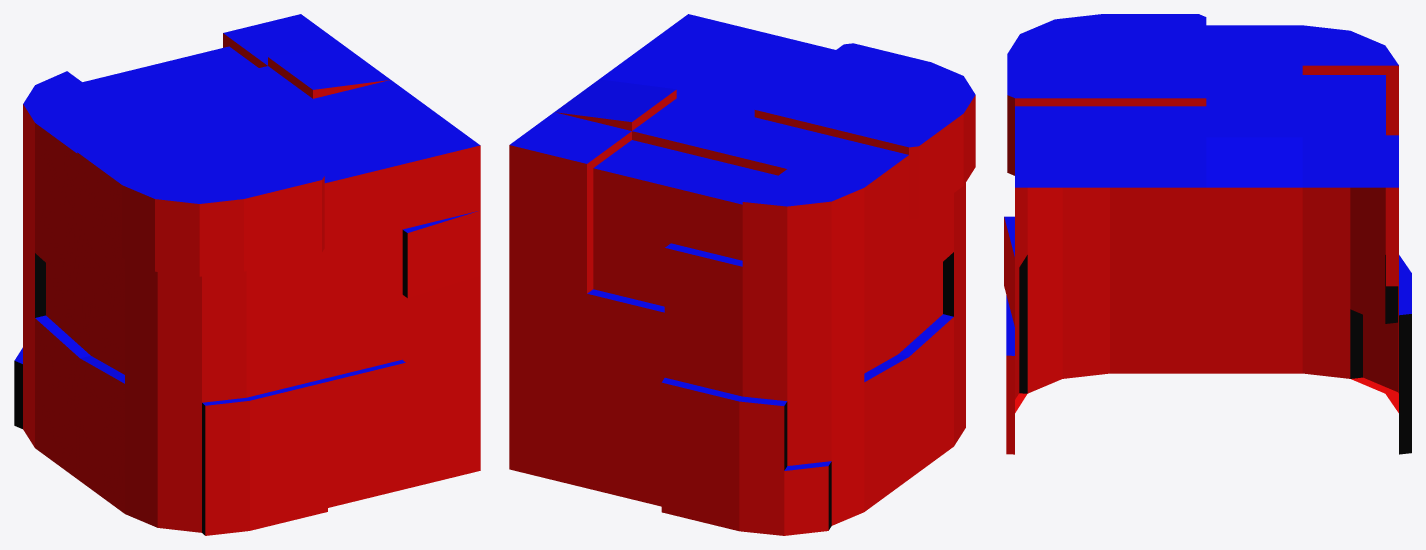
File: Block_ConnectOneSide_Rough_v1.fbx
3 renders of one model, left to right at view 1: azimuth 30°, elevation 25°; view 2: azimuth 150°, elevation 25°; view 3: azimuth 270°, elevation 25°, orthographic. The views are drawn at different scales.
Parts seen in each view (by area): view 1: Cube.021; view 2: Cube.021; view 3: Cube.021.
Boxes of the visible parts, x1,y1,x2,y2 form: Cube.021: (14, 14, 480, 535); Cube.021: (509, 14, 975, 535); Cube.021: (1004, 14, 1411, 454).
Bounding box in the file's own units: 102 × 103 × 106.
